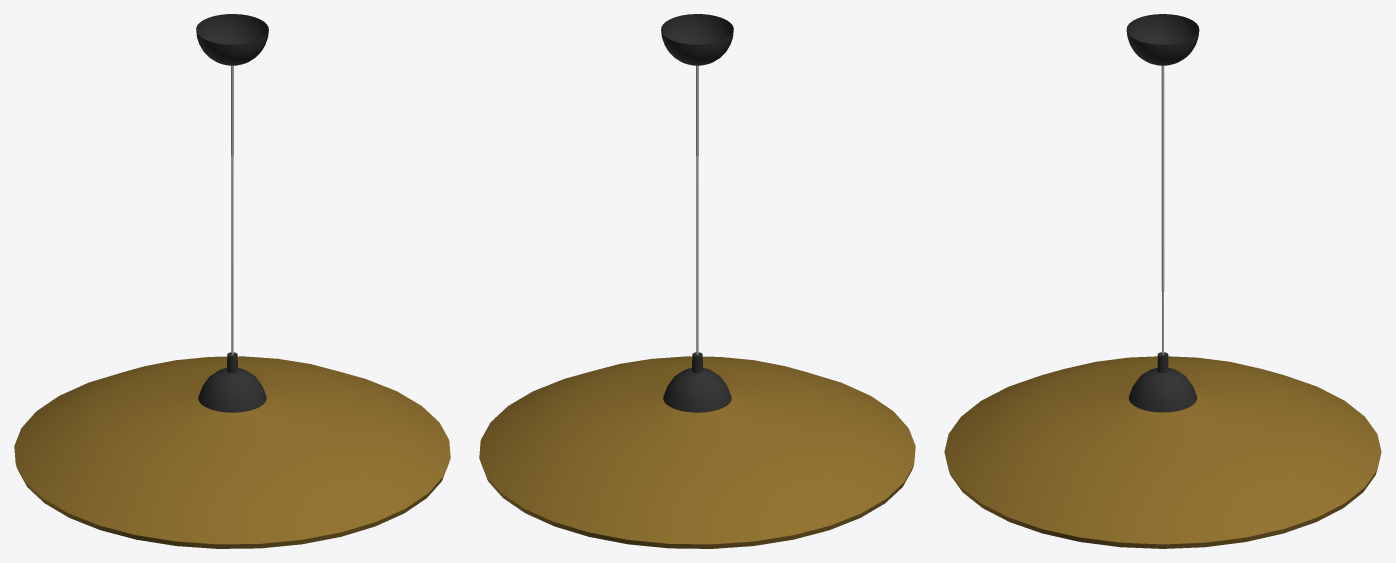
File: chandelierYellowGlass_fbx.FBX
3 renders of one model, left to right at view 1: azimuth 30°, elevation 25°; view 2: azimuth 150°, elevation 25°; view 3: azimuth 270°, elevation 25°, orthographic.
Visible parts, largest first — view 1: chandelierYellowGlass; view 2: chandelierYellowGlass; view 3: chandelierYellowGlass.
Part boxes in pixels (x1,y1,x2,y2): chandelierYellowGlass: (14,14,450,548); chandelierYellowGlass: (479,14,915,548); chandelierYellowGlass: (944,14,1381,548).
Size of the model in its own units: 5.03 by 5.7 by 5.03.
